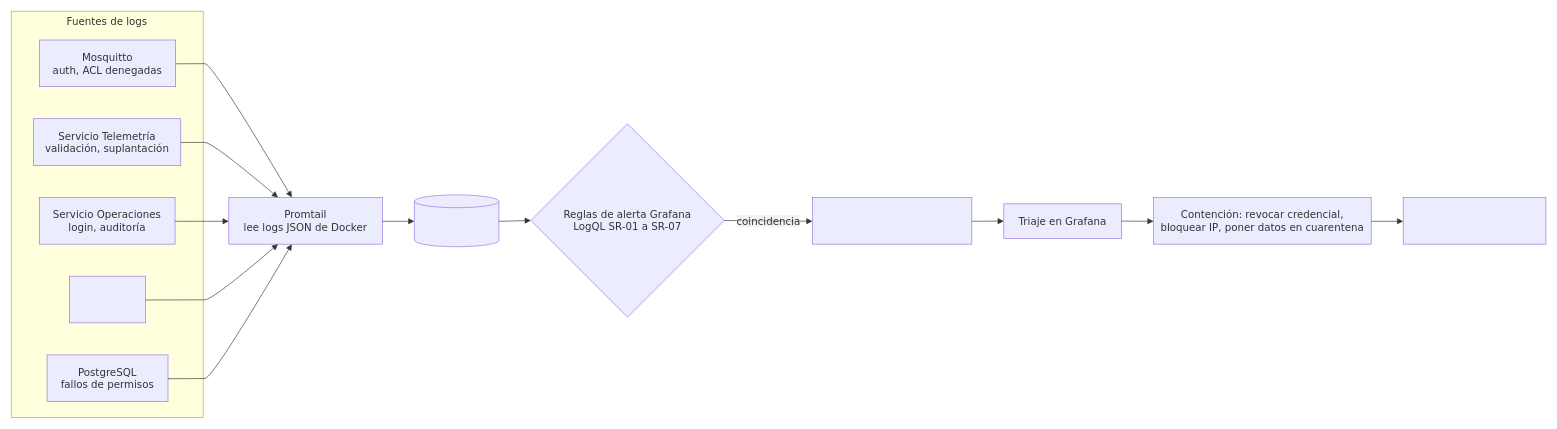
This 1557x429 diagram has some shape labels left out. The shapes that lost their labels are listed below. From the top down, each one's box as (x1, y1, x2, y2) in pixels, then its label:
(414, 194, 499, 247): Loki almacén de logs
(812, 197, 972, 244): Notificación al SOC punto de contacto Grafana
(1403, 197, 1546, 244): Registro de incidente y lecciones aprendidas
(69, 276, 146, 323): Caddy accesos
